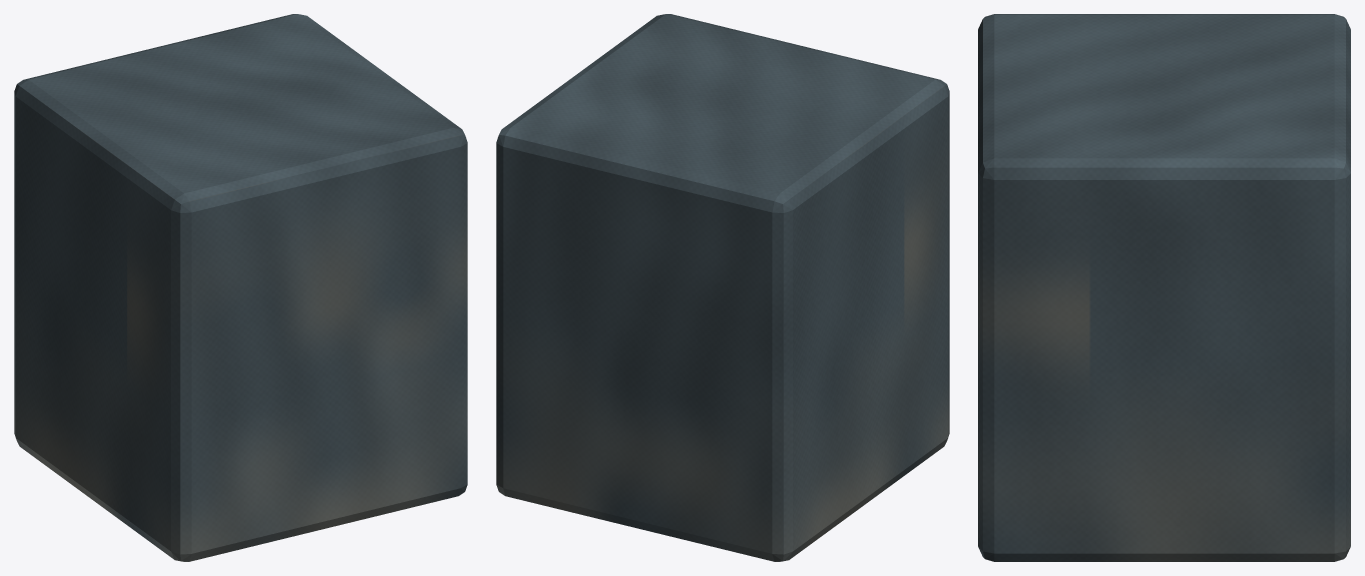
Rendered from RightLowerLeg.fbx.
3 renders of one model, left to right at view 1: azimuth 30°, elevation 25°; view 2: azimuth 150°, elevation 25°; view 3: azimuth 270°, elevation 25°, orthographic. The views are drawn at different scales.
Visible parts, largest first — view 1: RightLowerLeg; view 2: RightLowerLeg; view 3: RightLowerLeg.
Boxes of the visible parts, x1=… form: RightLowerLeg: x1=14, y1=14, x2=467, y2=561; RightLowerLeg: x1=496, y1=14, x2=949, y2=561; RightLowerLeg: x1=978, y1=14, x2=1350, y2=561.
Bounding box in the file's own units: 1 × 1.19 × 1.
1 material, 1 textured.
